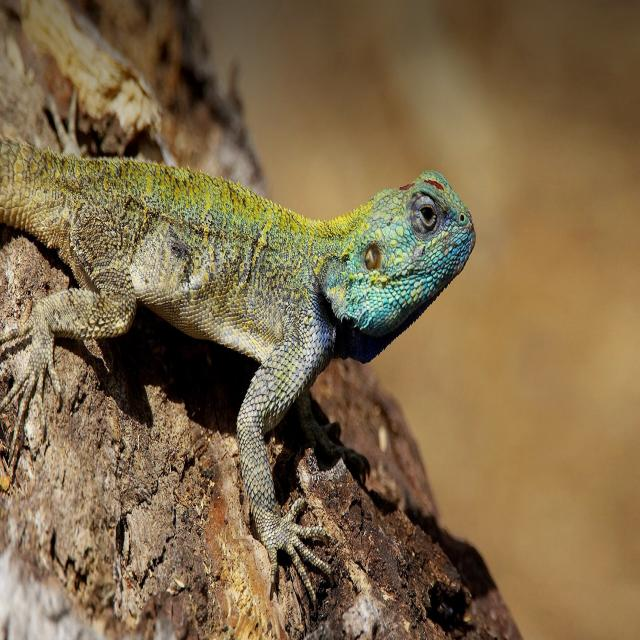lizard: (0, 140, 475, 606)
